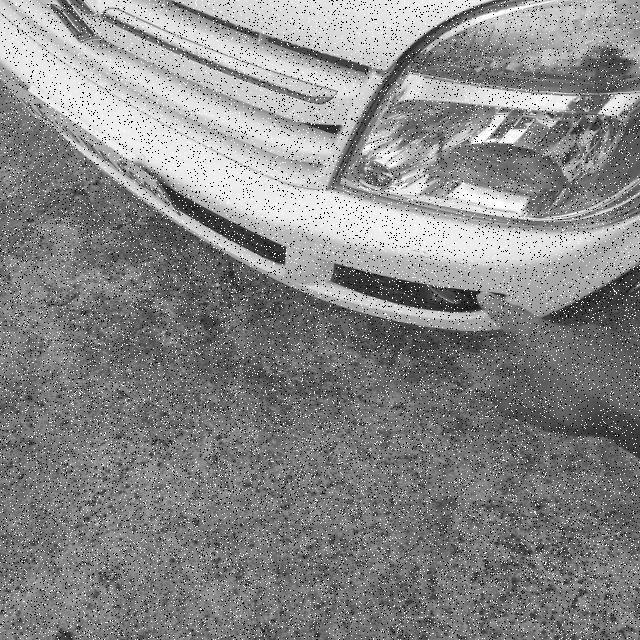front-bumper-dent: (302, 170, 600, 347)
